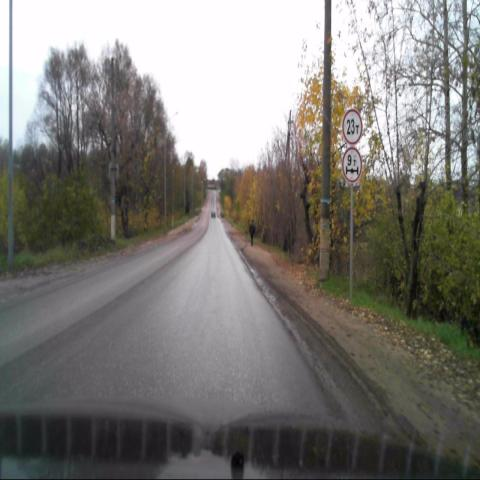3_11: (342, 108, 362, 144), (342, 147, 362, 182)
